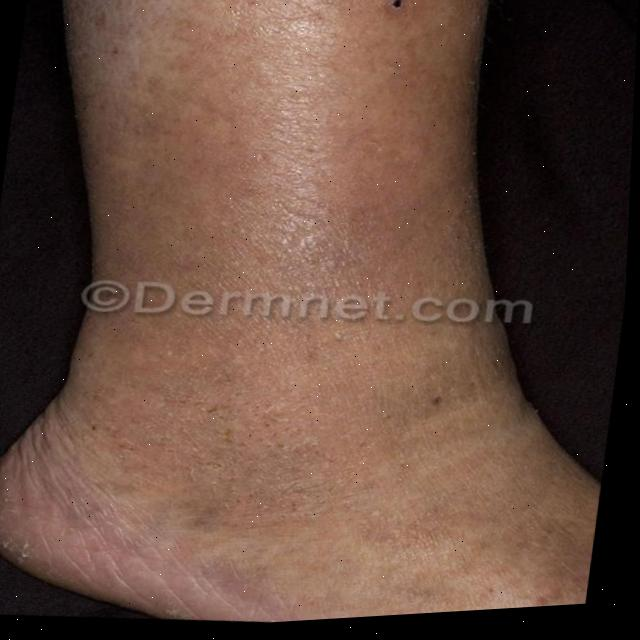Eczema: (32, 0, 510, 514)
